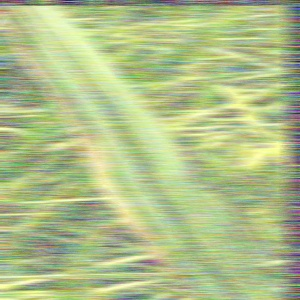Leaf_Blast: (54, 38, 194, 273)
